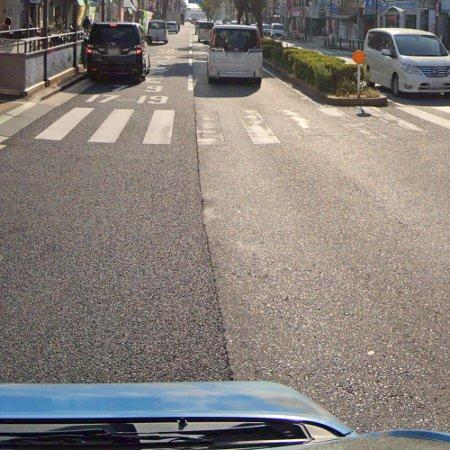crosswalks: (28, 104, 450, 147)
